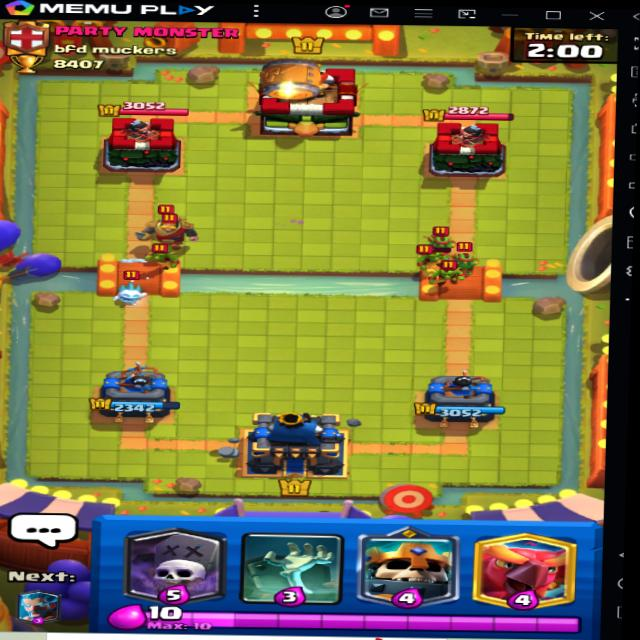Goblin: (137, 245, 186, 273), (426, 262, 467, 289), (417, 243, 448, 265)
Goblinbarrel: (247, 53, 331, 106)
Icespirit: (109, 277, 153, 311)
Knight: (137, 206, 202, 251)
Speargoblin: (453, 245, 488, 274), (418, 224, 453, 250)
